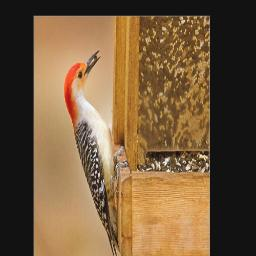Woodpecker: (63, 49, 137, 256)
